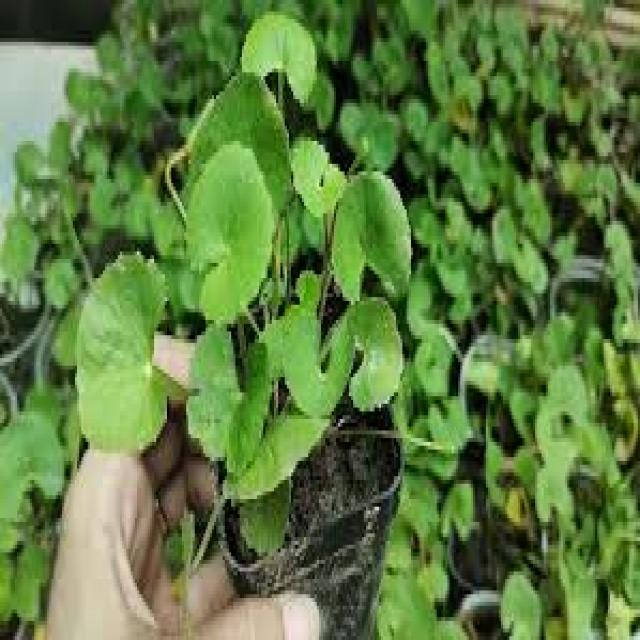healthy_leaf: (68, 84, 481, 573)
